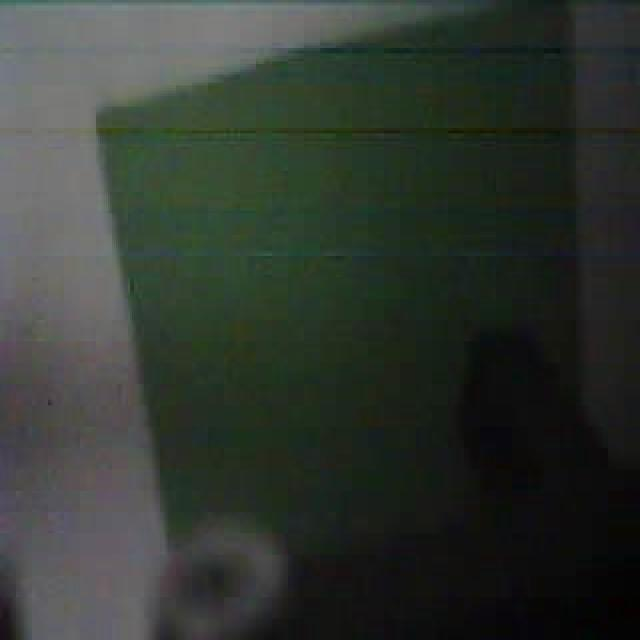green_box: (104, 6, 604, 564)
